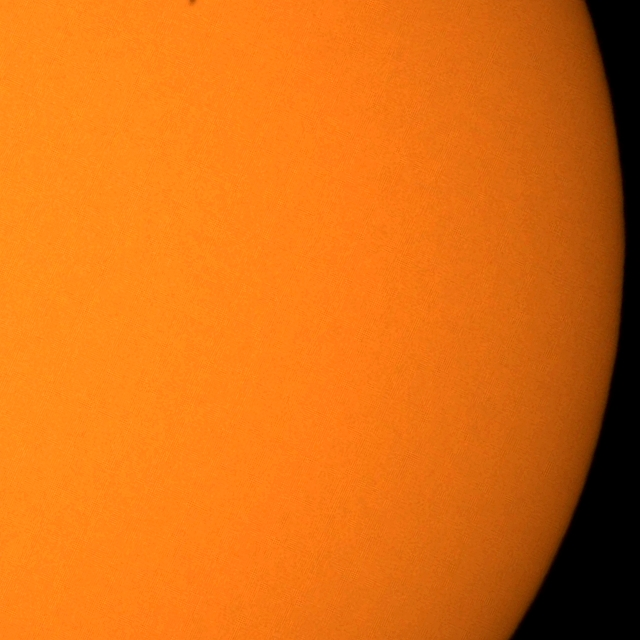sunspot: (186, 0, 198, 8)
